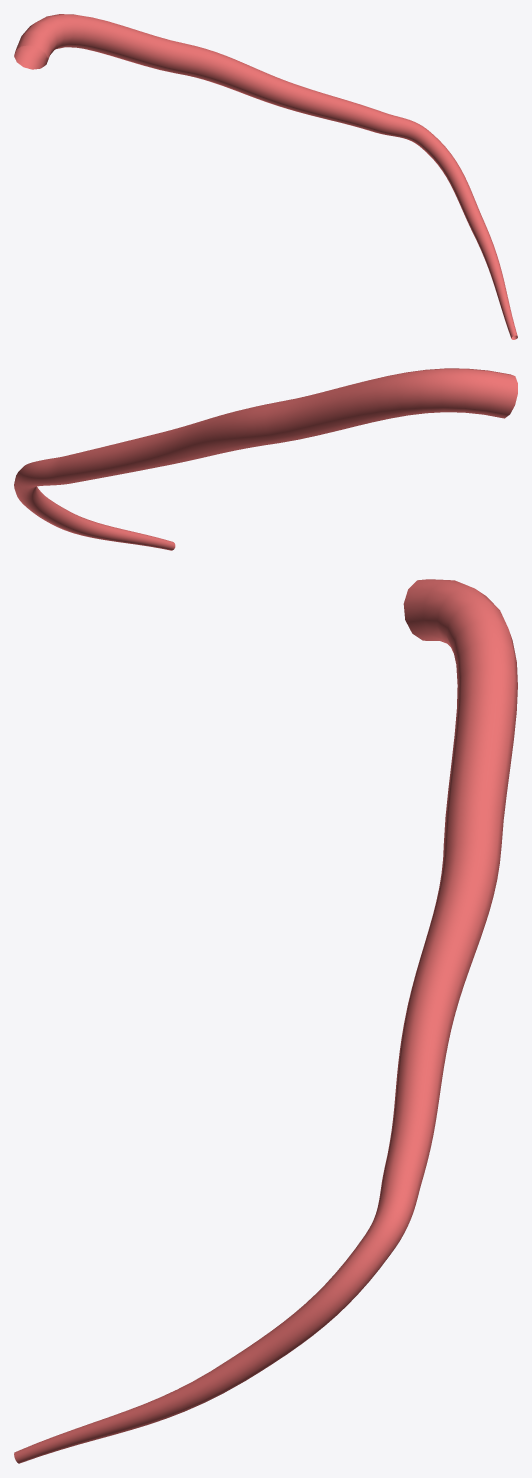
The model's file is Superior_lateral_genicular_artery.l_BezierCurve.258.glb.
The picture shows the model from 3 angles, top to bottom: view 1: azimuth 30°, elevation 25°; view 2: azimuth 150°, elevation 25°; view 3: azimuth 270°, elevation 25°; orthographic projection. The views are drawn at different scales.
Visible parts, largest first — view 1: Superior_lateral_genicular_artery.l_BezierCurve.258; view 2: Superior_lateral_genicular_artery.l_BezierCurve.258; view 3: Superior_lateral_genicular_artery.l_BezierCurve.258.
Part boxes in pixels (box(x1,y1,x2,y2)): Superior_lateral_genicular_artery.l_BezierCurve.258: box(14, 14, 517, 339); Superior_lateral_genicular_artery.l_BezierCurve.258: box(14, 368, 517, 550); Superior_lateral_genicular_artery.l_BezierCurve.258: box(14, 579, 517, 1463).
Size of the model in its own units: 0.0688 by 0.0496 by 0.04.
